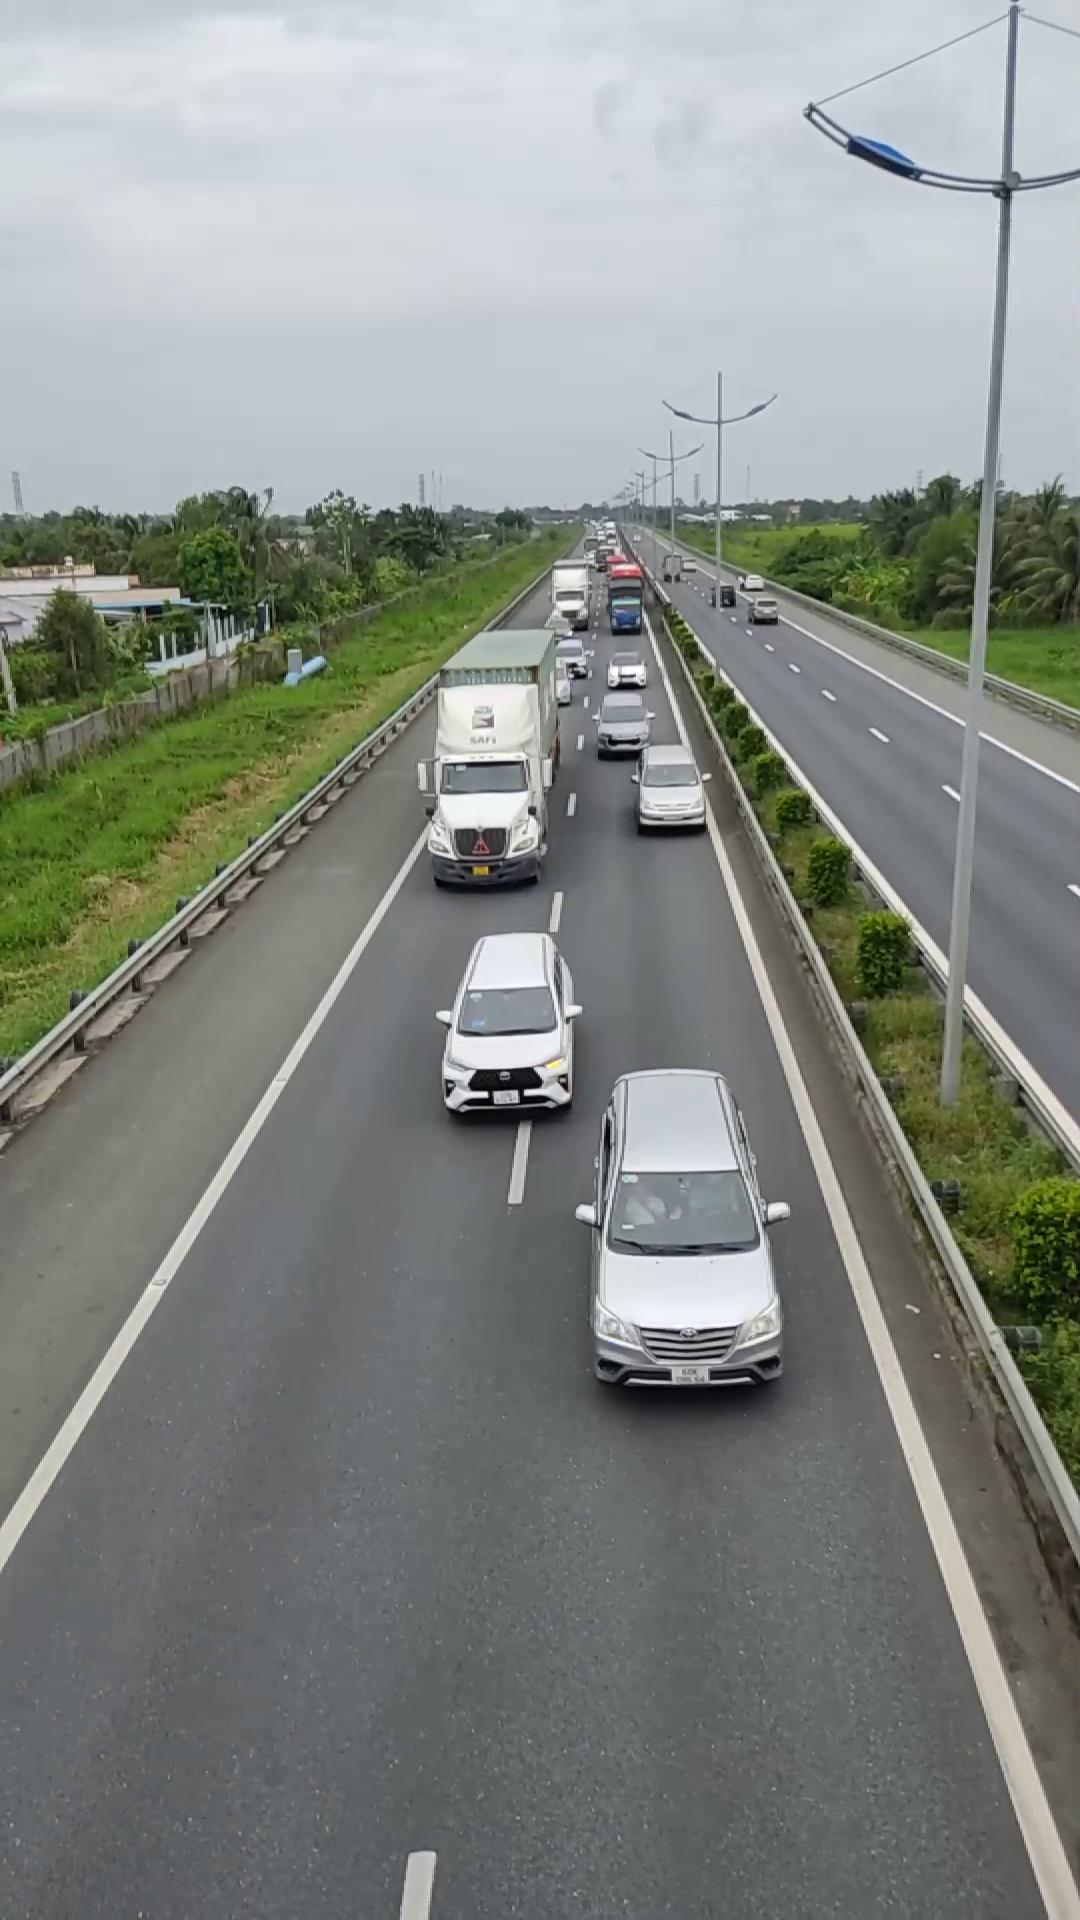car: (578, 1065, 789, 1391), (434, 930, 582, 1120), (631, 743, 710, 833)
container: (423, 626, 560, 888)
